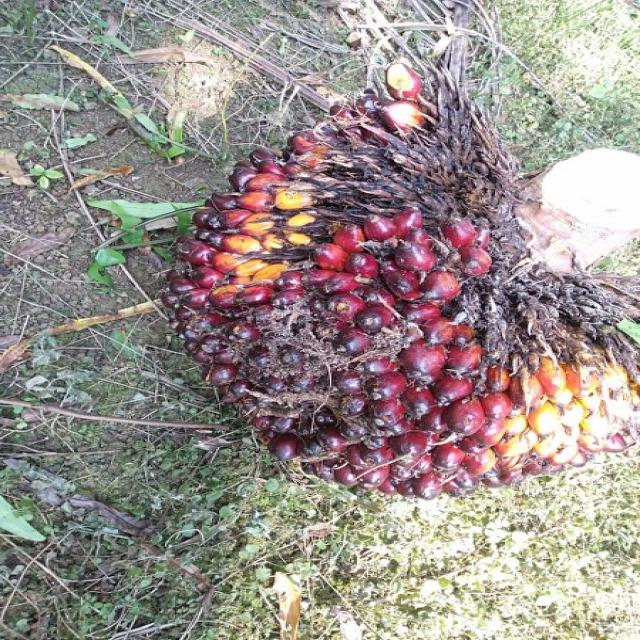fraksi 1: (129, 39, 637, 555)
